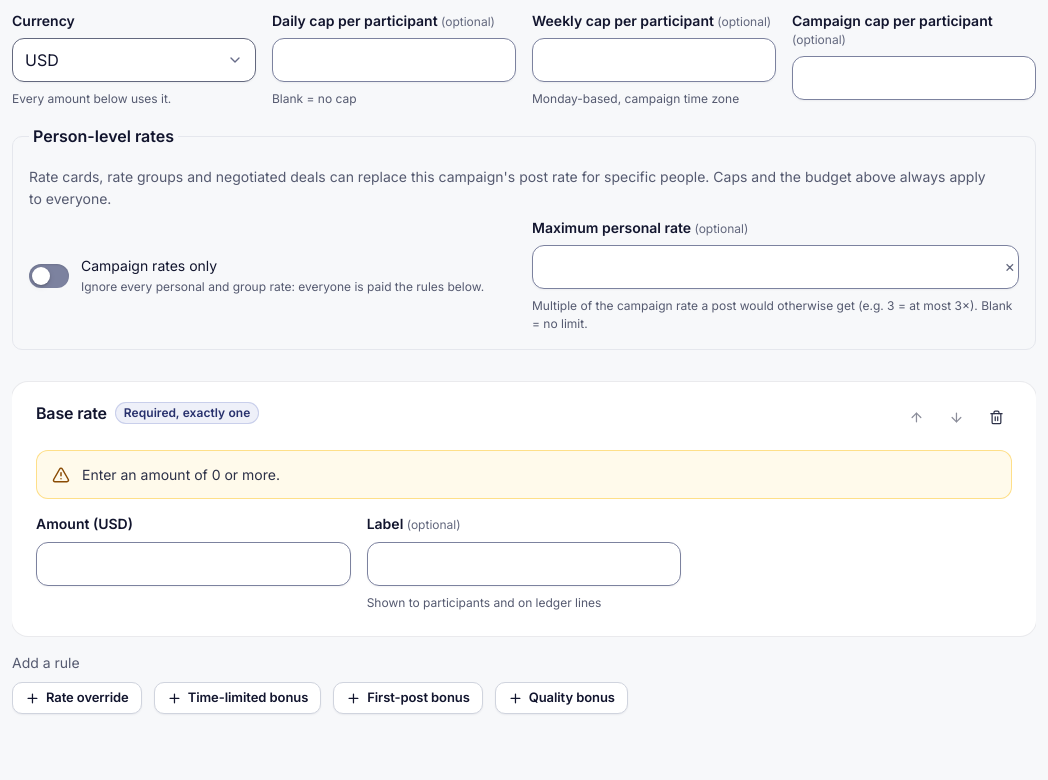
RulesBuilder › hints that exactly one base rate is required
The width and height of the screenshot is (1048, 780).
Expected: the text "Base rate" is shown, [36, 403, 107, 423]
Expected: the text "Add exactly one base rate." is not shown
Click the button named "Remove Base rate rule 1" at (996, 418), box [980, 402, 1012, 434]
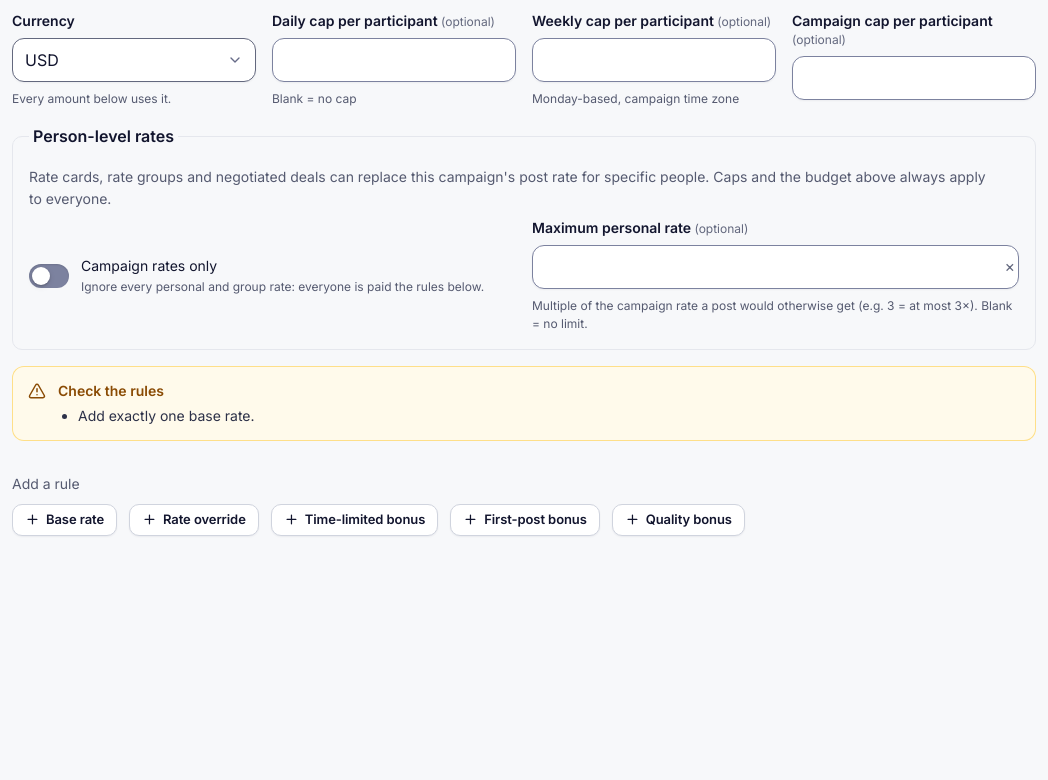
Expected: the list item "Add exactly one base rate." is shown, [78, 407, 254, 424]
Note: Re-adding brings the base rate back and the hint disappears.
Click the button "Base rate" at (64, 520), box [12, 504, 117, 536]
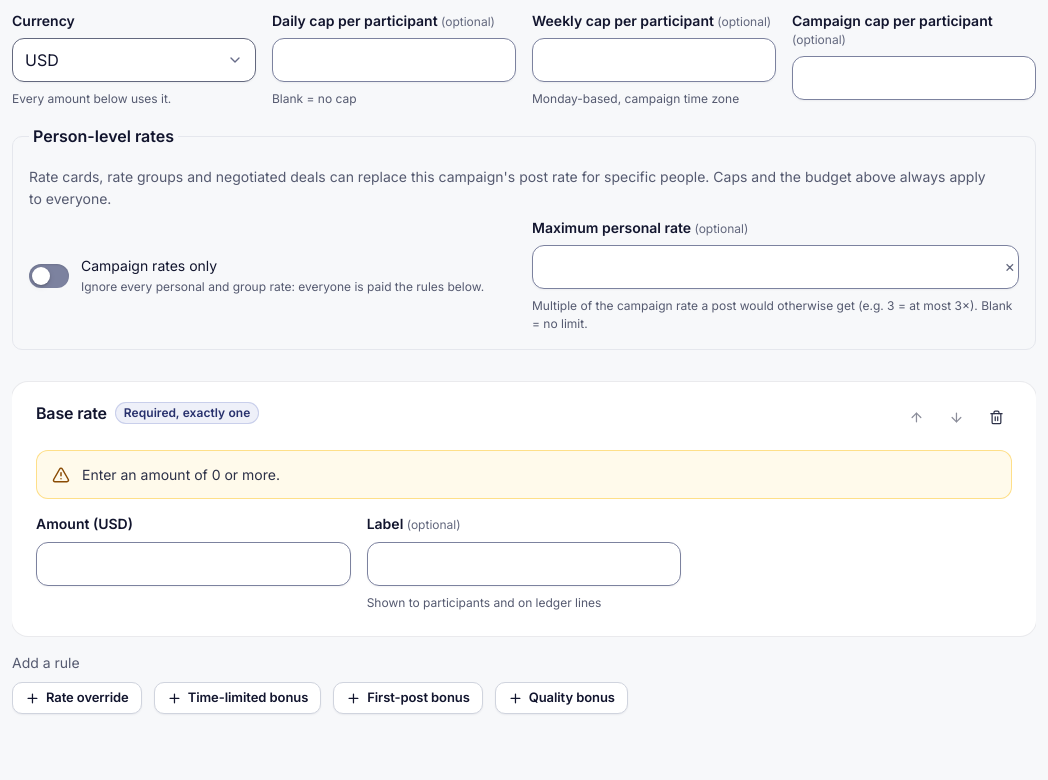
Expected: the list item "Add exactly one base rate." is gone
